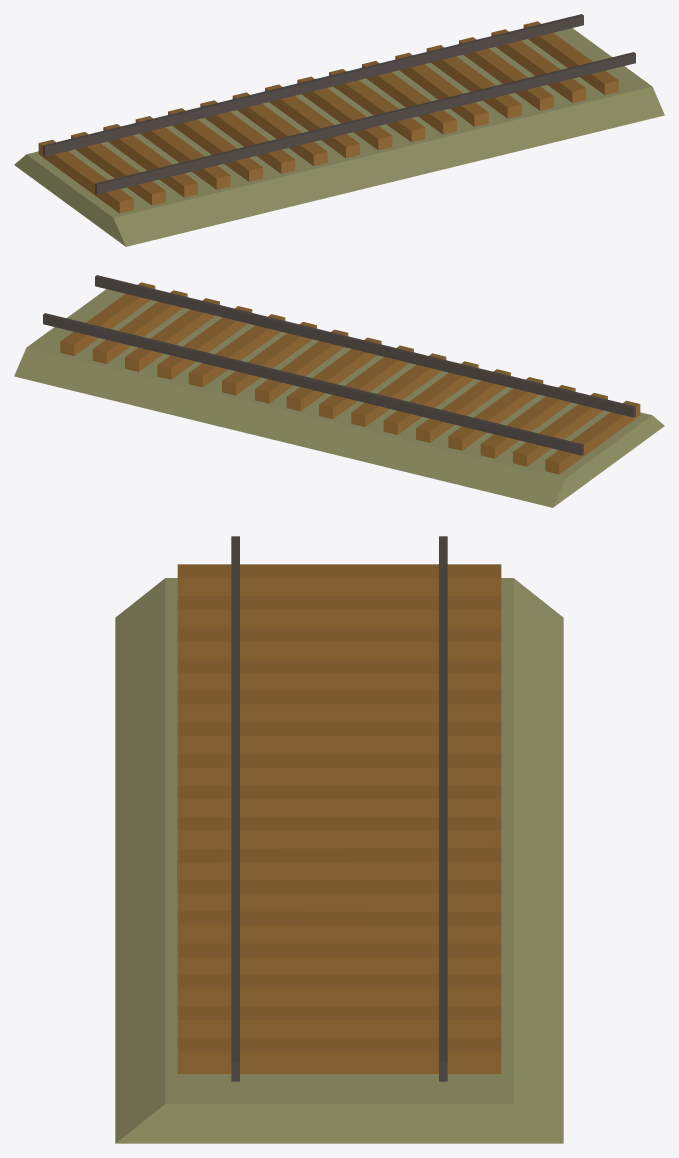
The model's file is SM_Via_Recta10_v1_Madera_LOD0.fbx.
The picture shows the model from 3 angles, top to bottom: view 1: azimuth 30°, elevation 25°; view 2: azimuth 150°, elevation 25°; view 3: azimuth 270°, elevation 25°; orthographic projection. The views are drawn at different scales.
Visible parts, largest first — view 1: SM_via_trazado_v1_LOD0; view 2: SM_via_trazado_v1_LOD0; view 3: SM_via_trazado_v1_LOD0.
Part boxes in pixels (x1,y1,x2,y2): SM_via_trazado_v1_LOD0: (14,14,664,246); SM_via_trazado_v1_LOD0: (14,275,664,507); SM_via_trazado_v1_LOD0: (115,536,563,1143).
Size of the model in its own units: 10 by 0.72 by 3.6.
